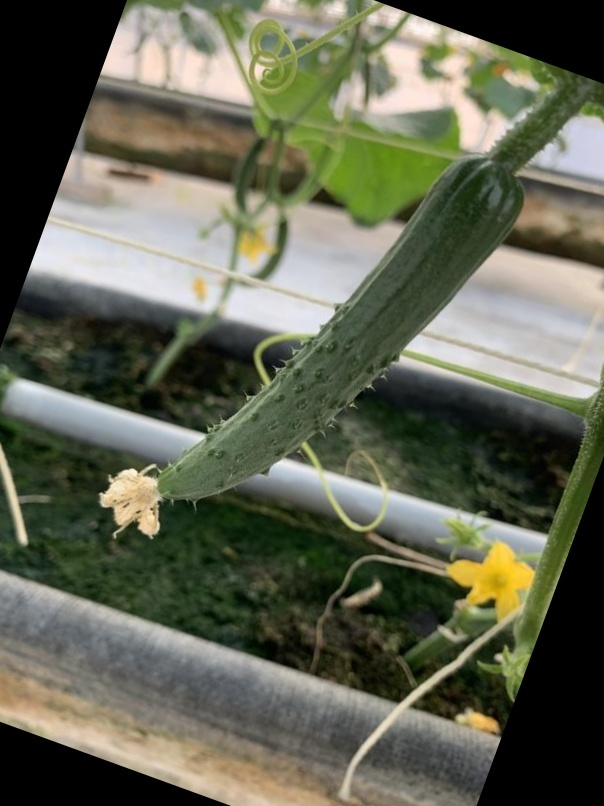growth: (133, 150, 532, 516)
